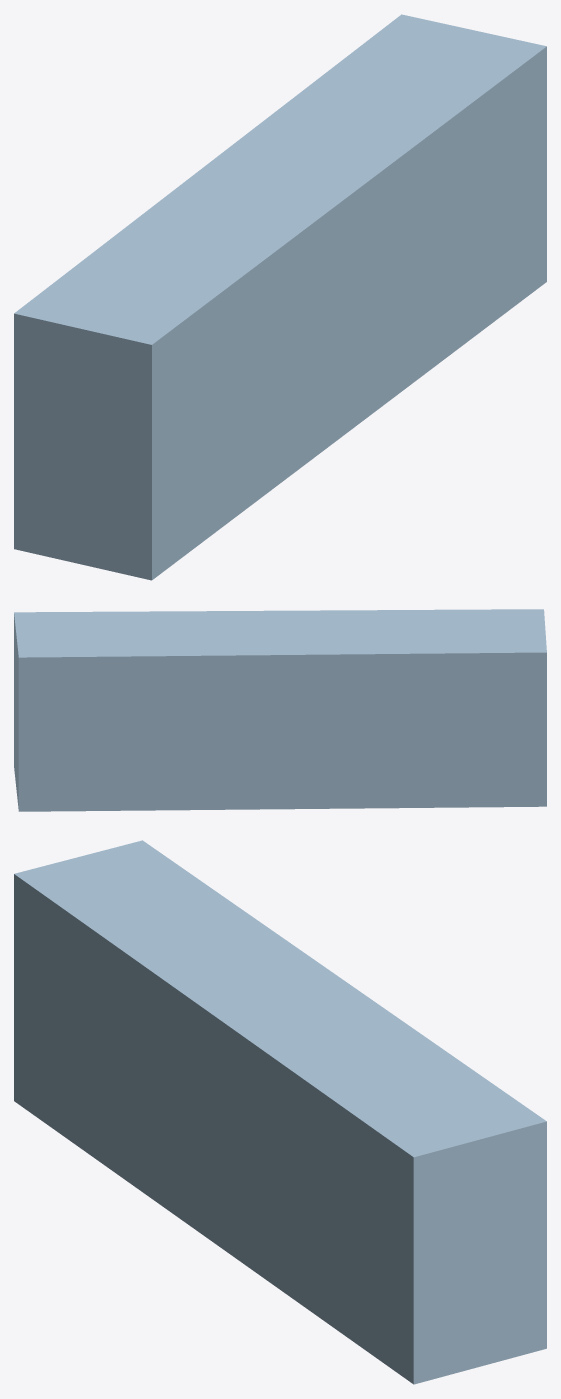
Rendered from osm_way_1173057026.glb.
3 renders of one model, top to bottom at view 1: azimuth 30°, elevation 25°; view 2: azimuth 150°, elevation 25°; view 3: azimuth 270°, elevation 25°, orthographic. The views are drawn at different scales.
Visible parts, largest first — view 1: osm_way_1173057026; view 2: osm_way_1173057026; view 3: osm_way_1173057026.
Part boxes in pixels (x1,y1,x2,y2): osm_way_1173057026: (14, 14, 546, 580); osm_way_1173057026: (14, 609, 546, 811); osm_way_1173057026: (14, 840, 546, 1384).
Bounding box in the file's own units: 57.45 × 19.2 × 40.82.
